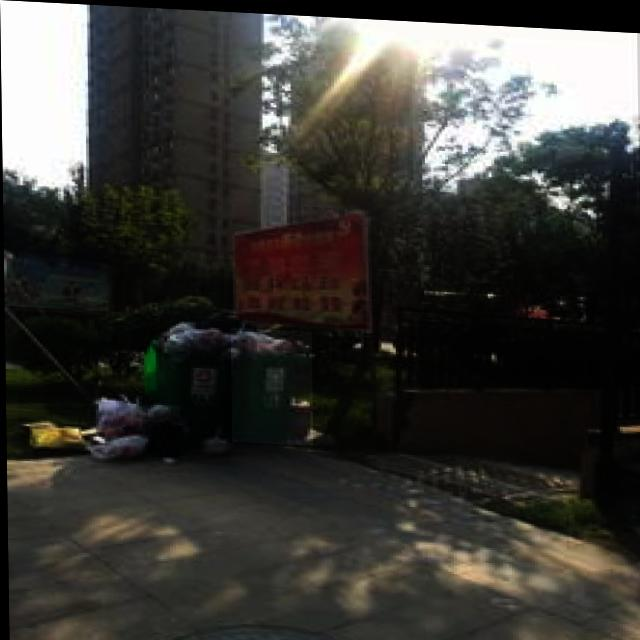garbage: (16, 391, 228, 463)
overflow: (137, 313, 234, 434), (230, 325, 312, 442)
